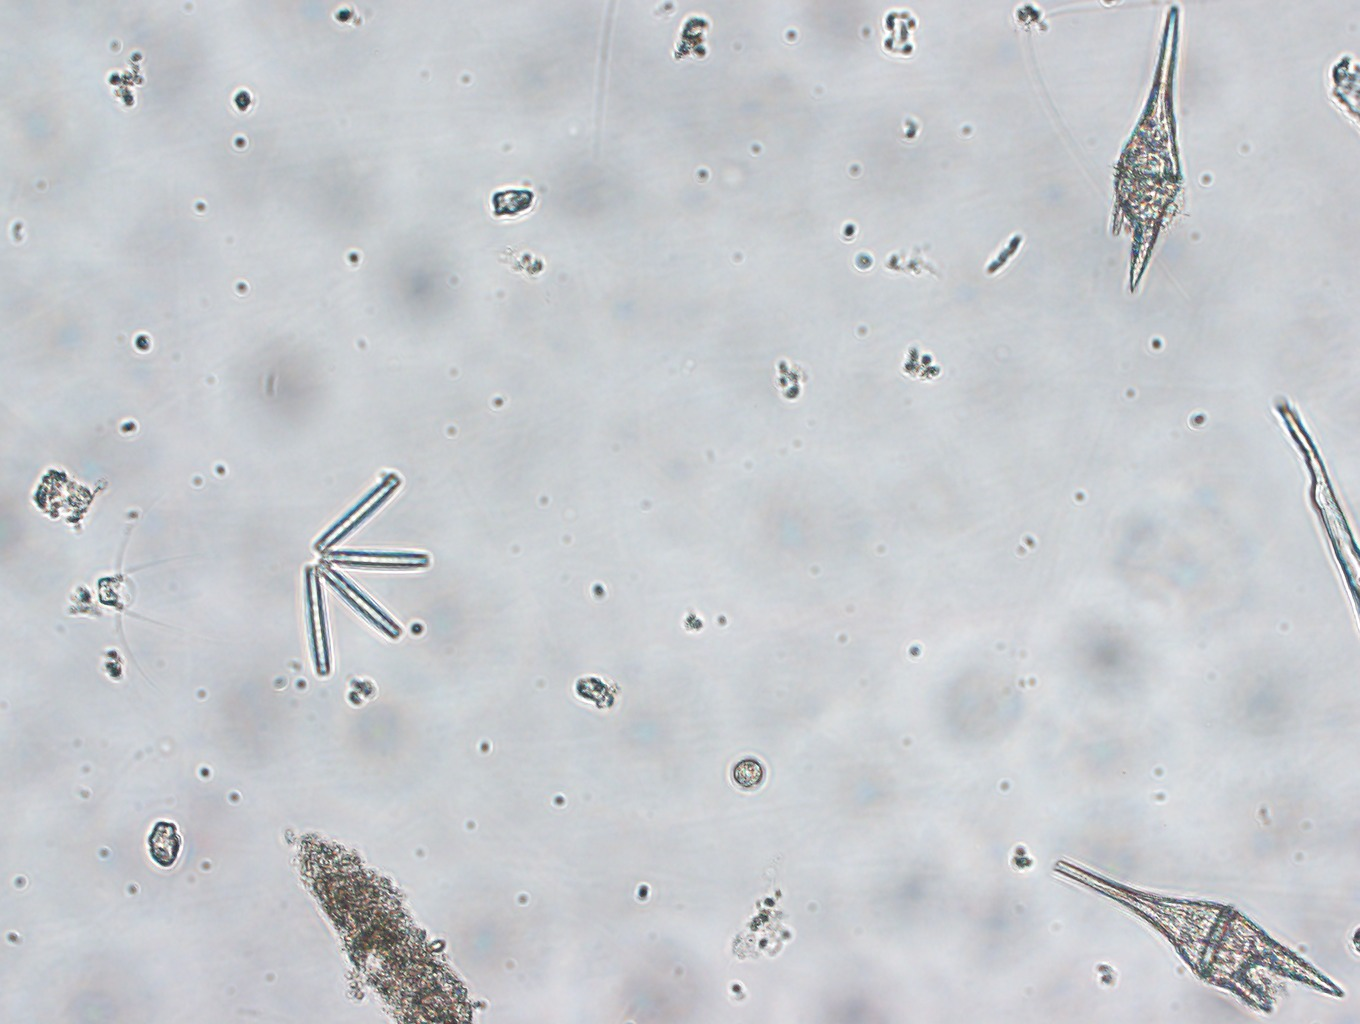ceratium furca: (1046, 856, 1349, 1010), (1096, 5, 1196, 294)
chaetoceros: (95, 509, 177, 669)
thalassionema nitzschioides: (285, 459, 431, 680)
